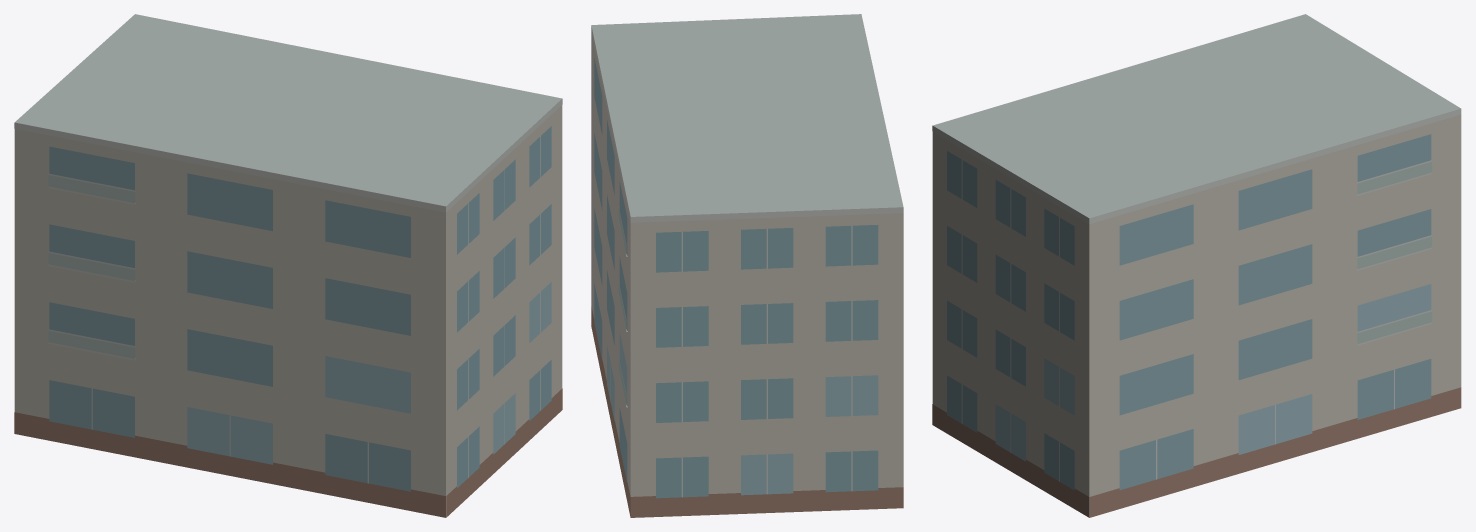
Rendered from survey-upis-32802903.glb.
The picture shows the model from 3 angles, left to right: view 1: azimuth 30°, elevation 25°; view 2: azimuth 150°, elevation 25°; view 3: azimuth 270°, elevation 25°; orthographic projection. The views are drawn at different scales.
Visible parts, largest first — view 1: survey-upis-32802903.tmp; view 2: survey-upis-32802903.tmp; view 3: survey-upis-32802903.tmp.
Boxes of the visible parts, <box> form: survey-upis-32802903.tmp: <box>14,14,562,517</box>; survey-upis-32802903.tmp: <box>591,14,903,517</box>; survey-upis-32802903.tmp: <box>932,14,1461,517</box>.
Size of the model in its own units: 18.3 by 12.5 by 20.01.
